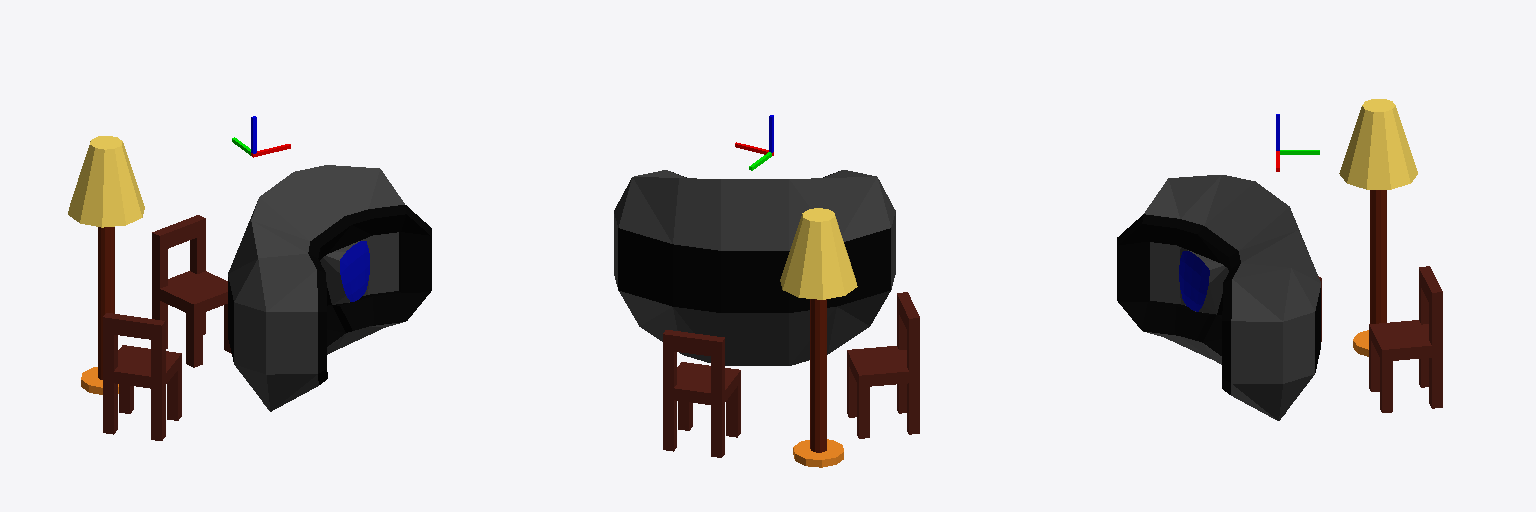
3 renders of one model, left to right at view 1: azimuth 30°, elevation 25°; view 2: azimuth 150°, elevation 25°; view 3: azimuth 270°, elevation 25°, orthographic.
Visible parts, largest first — view 1: Cube; view 2: Cube; view 3: Cube.
Part boxes in pixels (bbox=[...]): Cube: bbox=[68, 116, 431, 440]; Cube: bbox=[614, 115, 919, 467]; Cube: bbox=[1117, 99, 1442, 420].
Size of the model in its own units: 1.6 by 1.41 by 1.48.